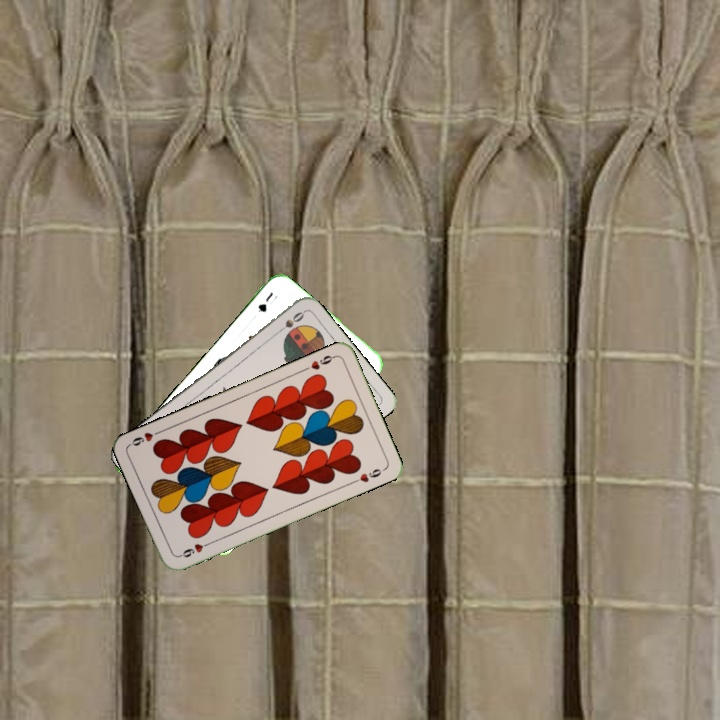GU: (254, 288, 276, 315)
H9: (300, 351, 339, 373), (175, 538, 214, 560)
SO: (272, 307, 307, 337)
